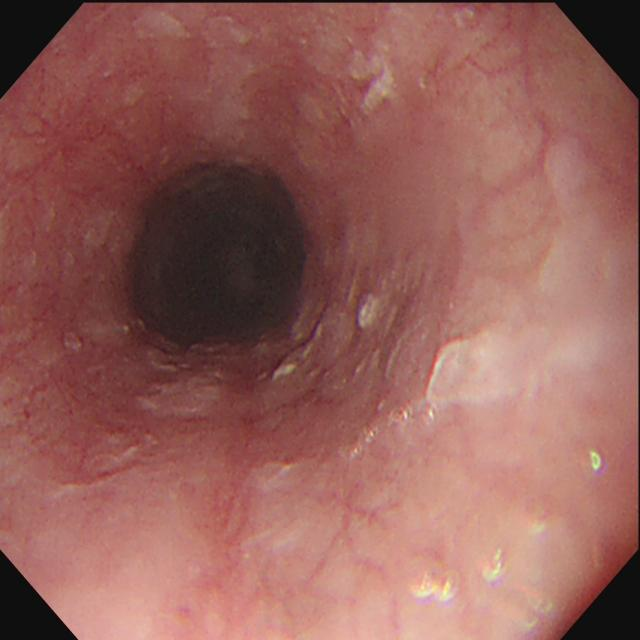E: (129, 157, 303, 342)
J: (425, 136, 624, 401), (133, 321, 228, 419), (271, 307, 341, 381), (356, 290, 387, 335)
T: (347, 403, 437, 459), (407, 557, 464, 604)
